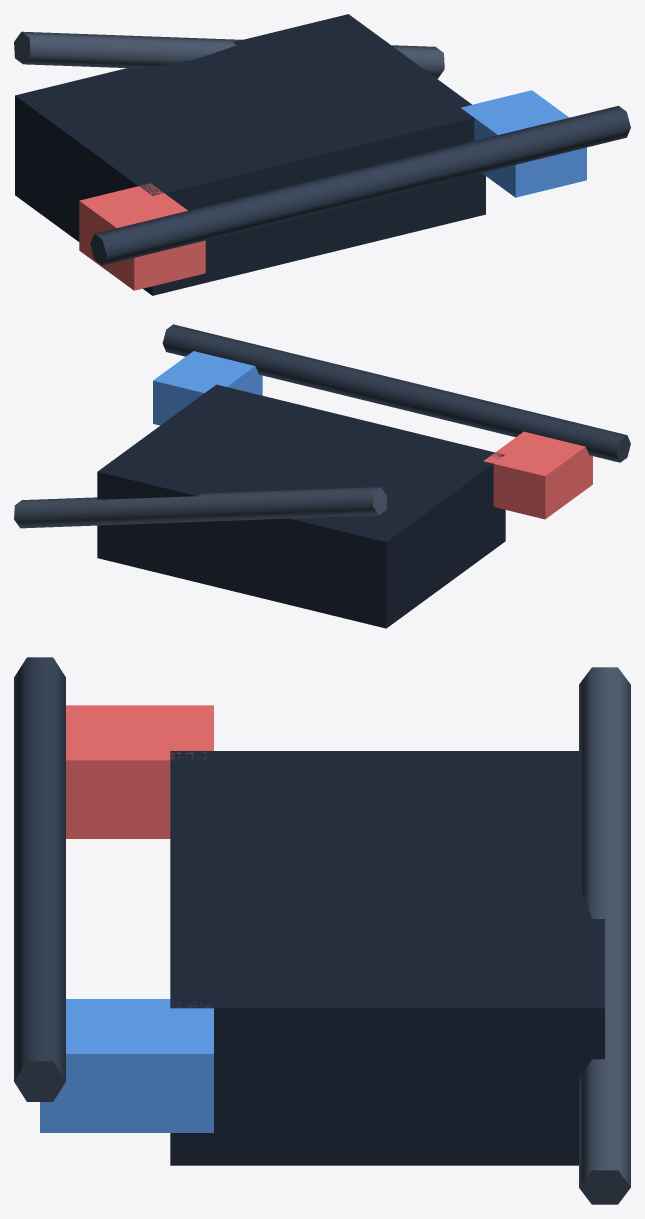
The model's file is parametric-source.glb.
3 views of the same model, one above another, from view 1: azimuth 30°, elevation 25°; view 2: azimuth 150°, elevation 25°; view 3: azimuth 270°, elevation 25° (orthographic). The views are drawn at different scales.
Visible parts, largest first — view 1: openclinxr.equipment.ekg_leads_on_bed_equipment.lead_pack, openclinxr.equipment.ekg_leads_on_bed_equipment.wire_a, openclinxr.equipment.ekg_leads_on_bed_equipment.wire_b, openclinxr.equipment.ekg_leads_on_bed_equipment.clip_l, openclinxr.equipment.ekg_leads_on_bed_equipment.clip_r; view 2: openclinxr.equipment.ekg_leads_on_bed_equipment.lead_pack, openclinxr.equipment.ekg_leads_on_bed_equipment.wire_a, openclinxr.equipment.ekg_leads_on_bed_equipment.wire_b, openclinxr.equipment.ekg_leads_on_bed_equipment.clip_l, openclinxr.equipment.ekg_leads_on_bed_equipment.clip_r; view 3: openclinxr.equipment.ekg_leads_on_bed_equipment.lead_pack, openclinxr.equipment.ekg_leads_on_bed_equipment.wire_b, openclinxr.equipment.ekg_leads_on_bed_equipment.wire_a, openclinxr.equipment.ekg_leads_on_bed_equipment.clip_r, openclinxr.equipment.ekg_leads_on_bed_equipment.clip_l.
Boxes of the visible parts, <box> form: openclinxr.equipment.ekg_leads_on_bed_equipment.lead_pack: <box>15,14,485,295</box>; openclinxr.equipment.ekg_leads_on_bed_equipment.wire_a: <box>90,106,630,265</box>; openclinxr.equipment.ekg_leads_on_bed_equipment.wire_b: <box>14,31,444,78</box>; openclinxr.equipment.ekg_leads_on_bed_equipment.clip_l: <box>79,183,205,290</box>; openclinxr.equipment.ekg_leads_on_bed_equipment.clip_r: <box>461,90,586,197</box>; openclinxr.equipment.ekg_leads_on_bed_equipment.lead_pack: <box>97,384,505,628</box>; openclinxr.equipment.ekg_leads_on_bed_equipment.wire_a: <box>162,324,630,462</box>; openclinxr.equipment.ekg_leads_on_bed_equipment.wire_b: <box>14,487,386,528</box>; openclinxr.equipment.ekg_leads_on_bed_equipment.clip_l: <box>483,431,592,519</box>; openclinxr.equipment.ekg_leads_on_bed_equipment.clip_r: <box>153,351,262,425</box>; openclinxr.equipment.ekg_leads_on_bed_equipment.lead_pack: <box>170,751,604,1165</box>; openclinxr.equipment.ekg_leads_on_bed_equipment.wire_b: <box>579,667,630,1204</box>; openclinxr.equipment.ekg_leads_on_bed_equipment.wire_a: <box>14,657,65,1101</box>; openclinxr.equipment.ekg_leads_on_bed_equipment.clip_r: <box>40,999,213,1132</box>; openclinxr.equipment.ekg_leads_on_bed_equipment.clip_l: <box>66,705,213,838</box>.
Bounding box in the file's own units: 0.22 × 0.0633 × 0.142.
